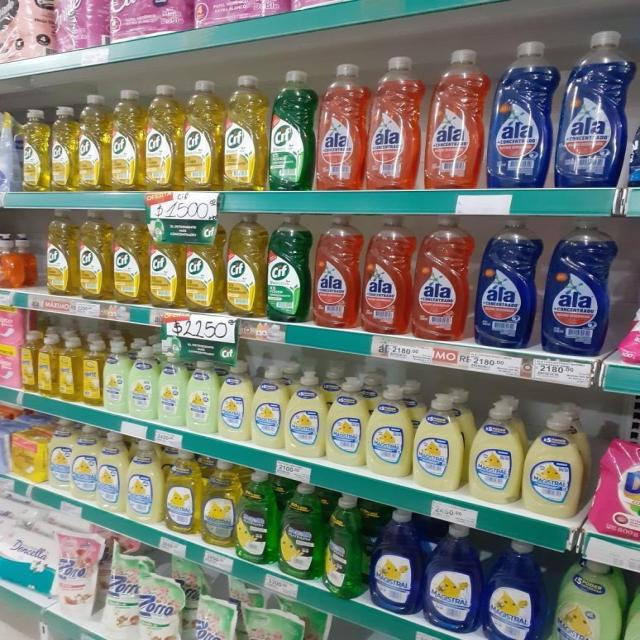ala_conc_azul: (557, 26, 627, 188), (488, 37, 554, 189), (542, 218, 613, 358), (474, 214, 538, 348)
ala_conc_rojo: (426, 48, 486, 190), (367, 55, 422, 191), (412, 214, 470, 342), (316, 61, 365, 190), (361, 215, 410, 334), (312, 214, 360, 329)
cif_conc_bot_amarilla: (223, 74, 266, 192), (183, 78, 221, 192), (225, 213, 264, 318), (144, 84, 181, 192), (184, 217, 222, 313), (110, 88, 142, 192), (113, 210, 147, 304), (77, 93, 108, 192), (148, 218, 182, 308), (78, 209, 110, 301), (44, 208, 76, 298), (20, 108, 50, 192), (51, 105, 76, 192)
cif_conc_botella_verde: (268, 68, 314, 192), (266, 214, 310, 323)
magistral_con_amarillo: (201, 460, 237, 548), (165, 450, 200, 535)
magistral_con_azul: (425, 522, 481, 633), (484, 539, 544, 640), (371, 508, 421, 615)
magistral_con_crema: (524, 409, 586, 518), (552, 556, 620, 640), (468, 401, 522, 504), (413, 392, 464, 492), (366, 383, 411, 478), (326, 376, 366, 466), (285, 371, 324, 458), (126, 438, 162, 524), (252, 365, 284, 450), (219, 362, 250, 442), (187, 359, 217, 434), (98, 431, 125, 512), (71, 424, 98, 503), (128, 345, 156, 420), (158, 352, 185, 426), (48, 420, 71, 492)
magistral_con_verde: (280, 482, 324, 579), (238, 470, 277, 564), (625, 572, 640, 640)
